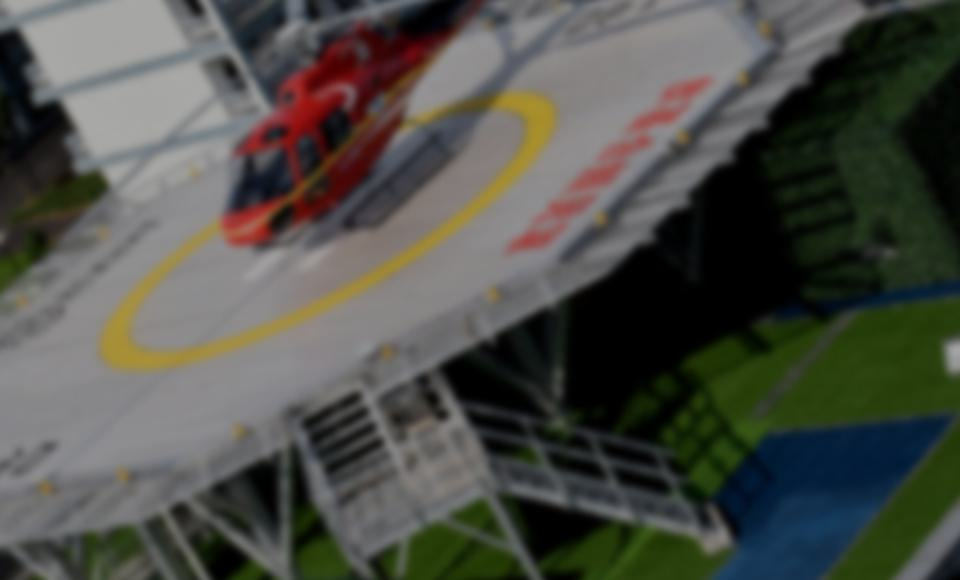Apron: (96, 78, 566, 377)
